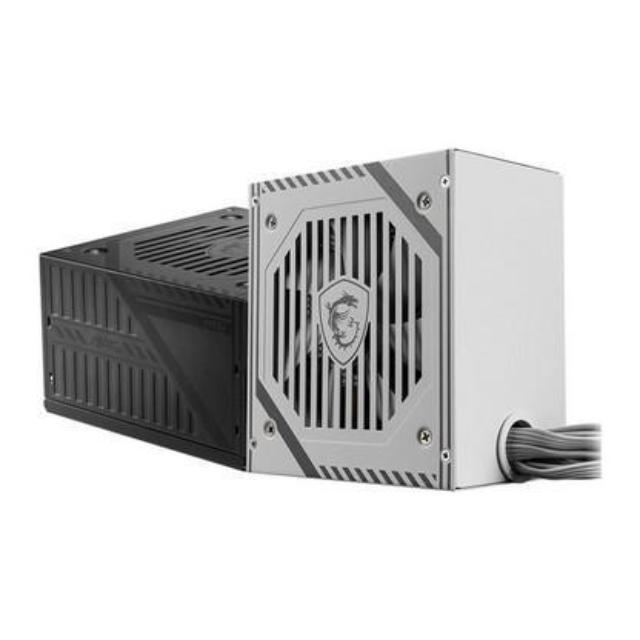PSU: (232, 138, 580, 498), (21, 190, 250, 482)
